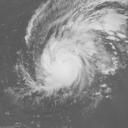cyclone: (29, 13, 106, 100)
